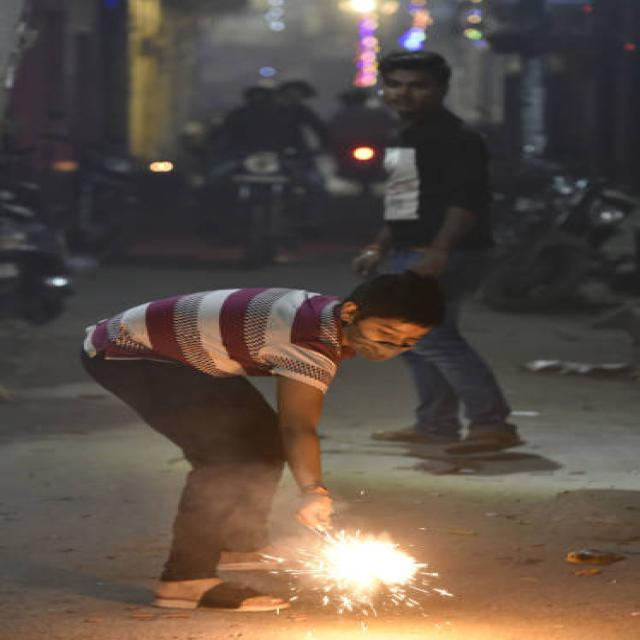fire: (325, 540, 426, 586)
